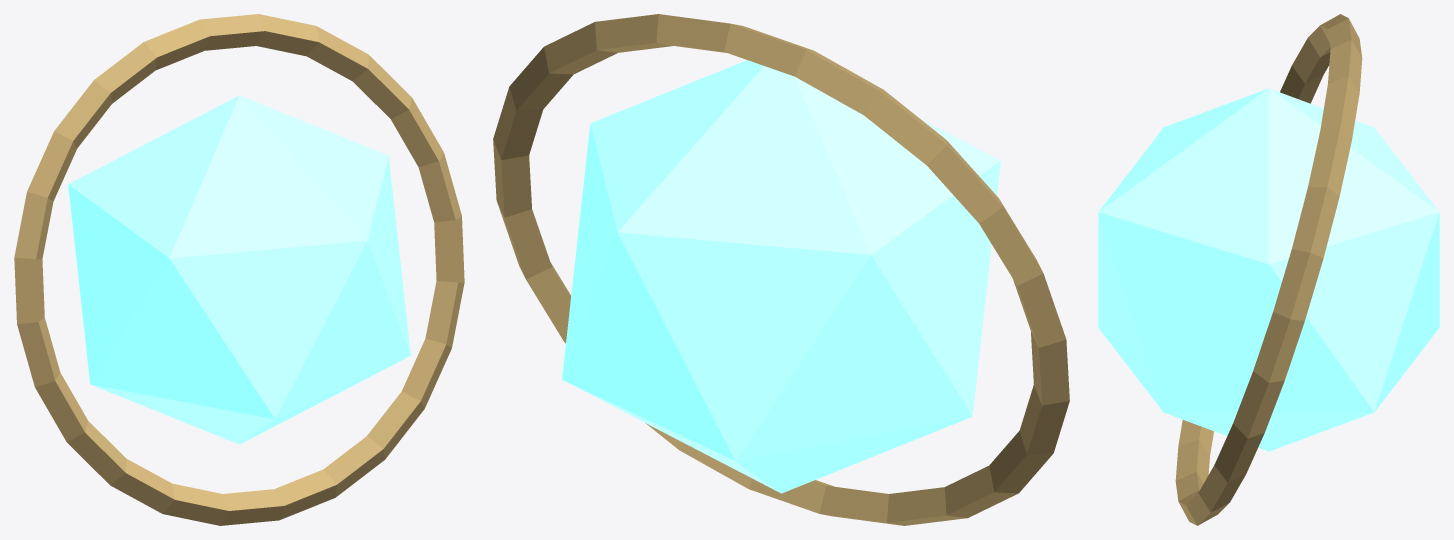
The model's file is soul_orb_v1.glb.
3 views of the same model, side by side, from view 1: azimuth 30°, elevation 25°; view 2: azimuth 150°, elevation 25°; view 3: azimuth 270°, elevation 25° (orthographic). The views are drawn at different scales.
Parts seen in each view (by area): view 1: soul_orb; view 2: soul_orb; view 3: soul_orb.
Boxes of the visible parts, x1=… form: soul_orb: x1=14, y1=14, x2=464, y2=525; soul_orb: x1=493, y1=14, x2=1069, y2=525; soul_orb: x1=1098, y1=14, x2=1439, y2=525.
Bounding box in the file's own units: 0.64 × 0.6087 × 0.4083.
